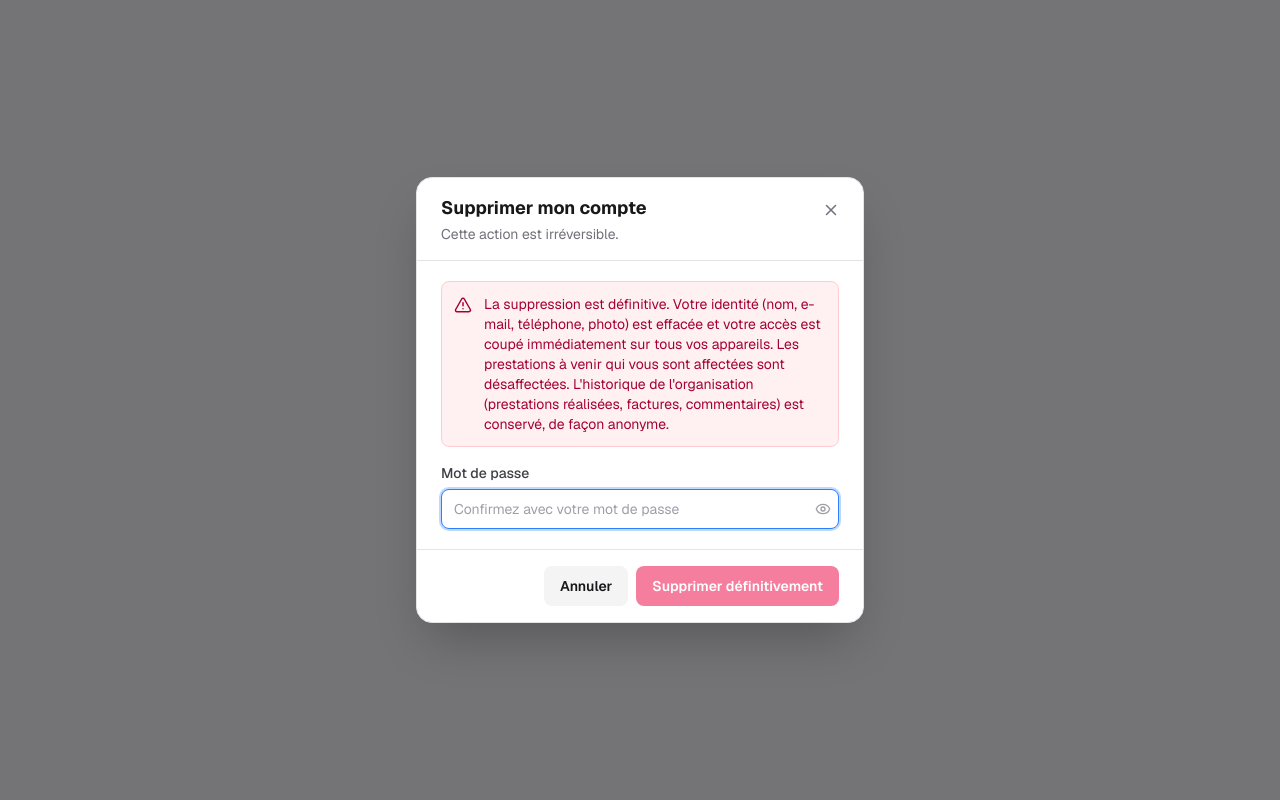
Test: DeleteAccountModal › autre erreur → message générique
Type "secret" into the password field labelled "Mot de passe" at (640, 509), box [441, 489, 839, 529]
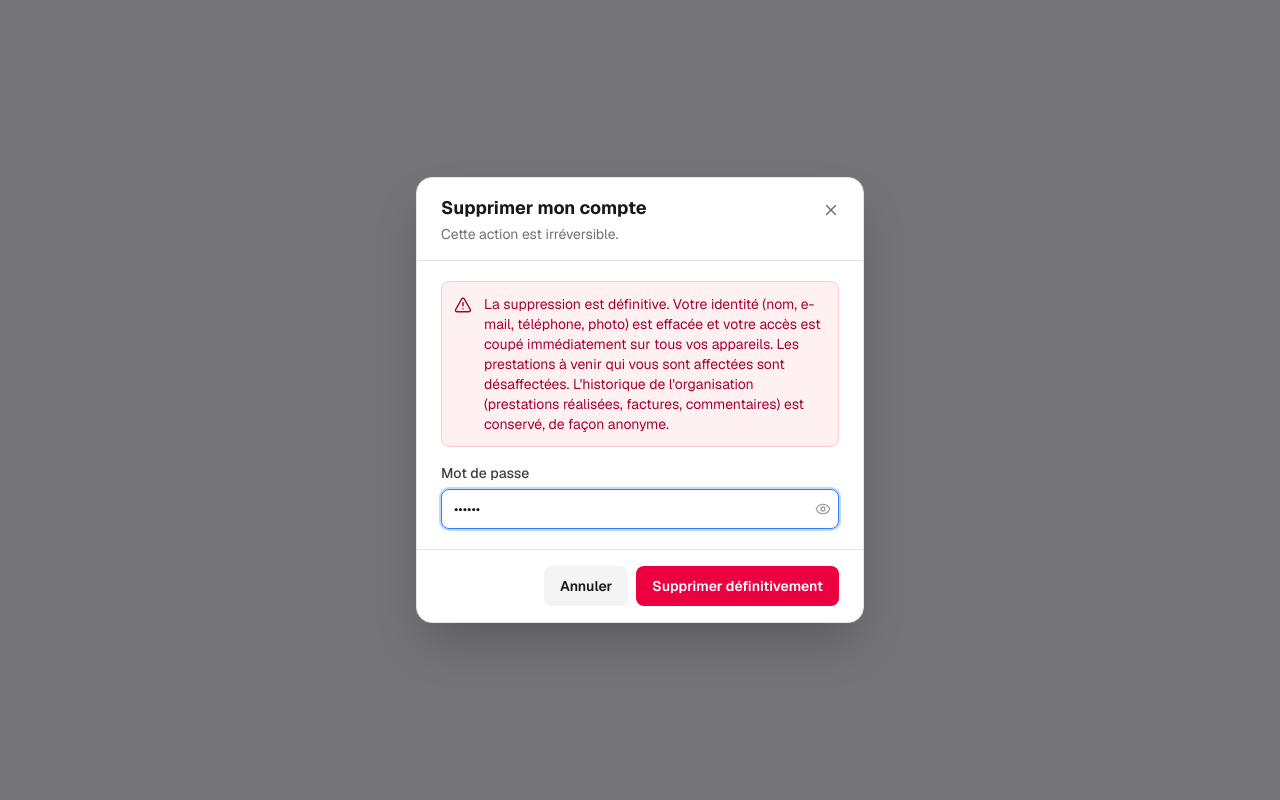
Click the button "Supprimer définitivement" at (738, 586), box [636, 566, 839, 606]
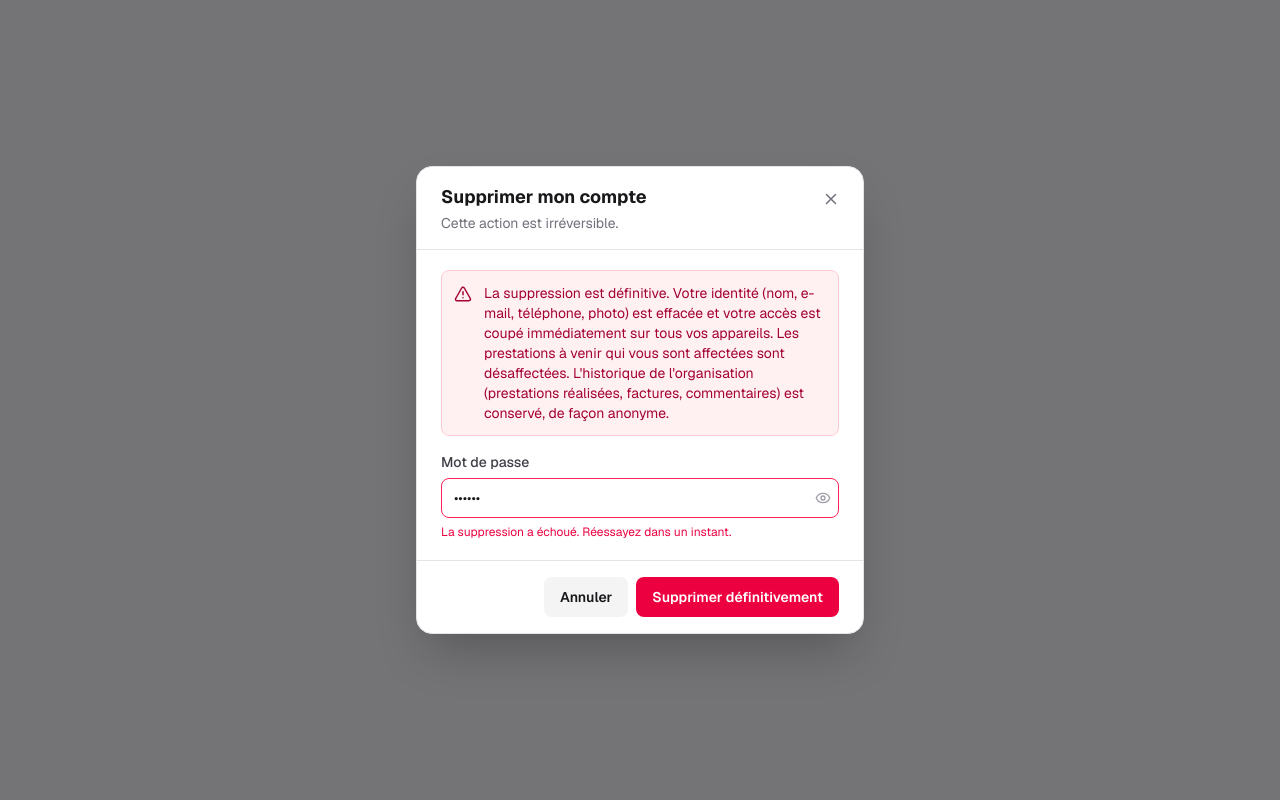
Expected: the text "La suppression a échoué. Réessayez dans un instant." is shown, [441, 524, 732, 540]
